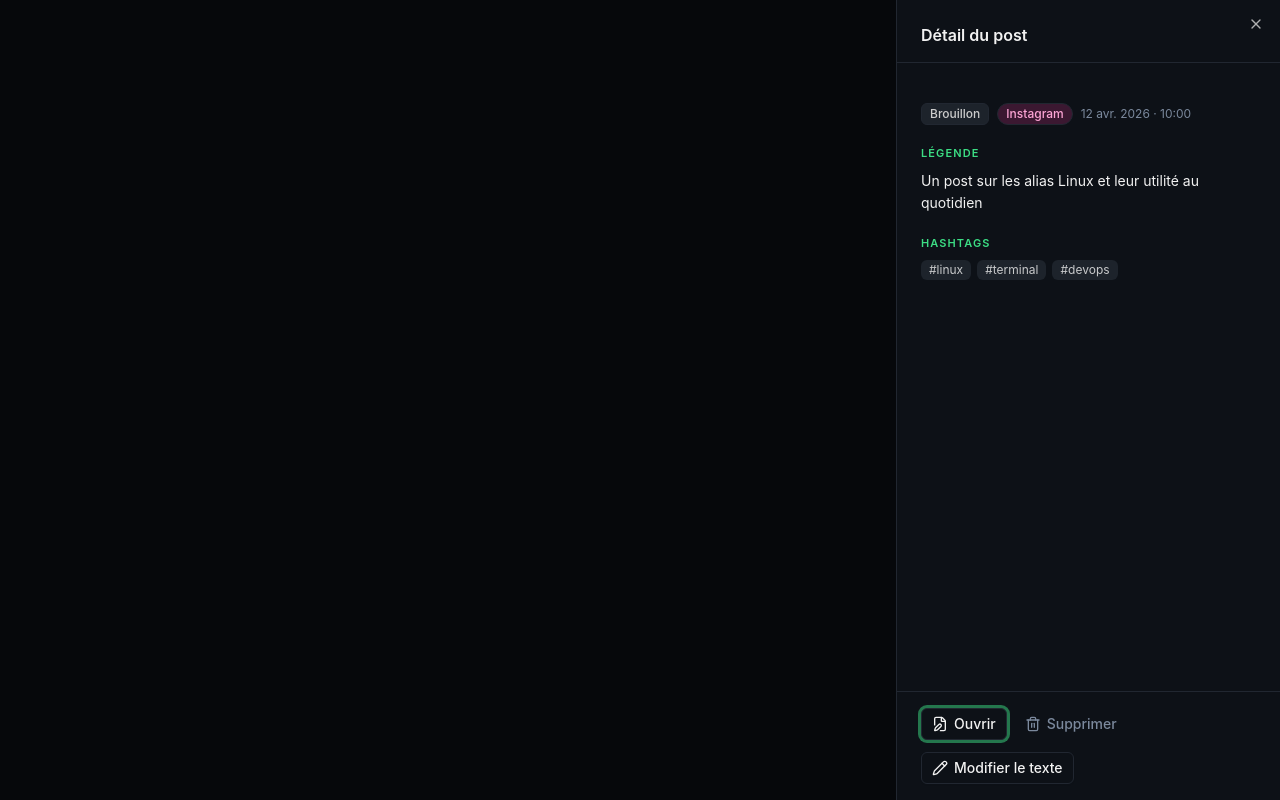
Test: PostDetailSheet — édition (brouillon) › Annuler en mode édition → revient au bouton 'Modifier le texte'
The width and height of the screenshot is (1280, 800).
Step 1. Click the button "Modifier le texte" → {"x": 997, "y": 768}, box [921, 752, 1074, 784]
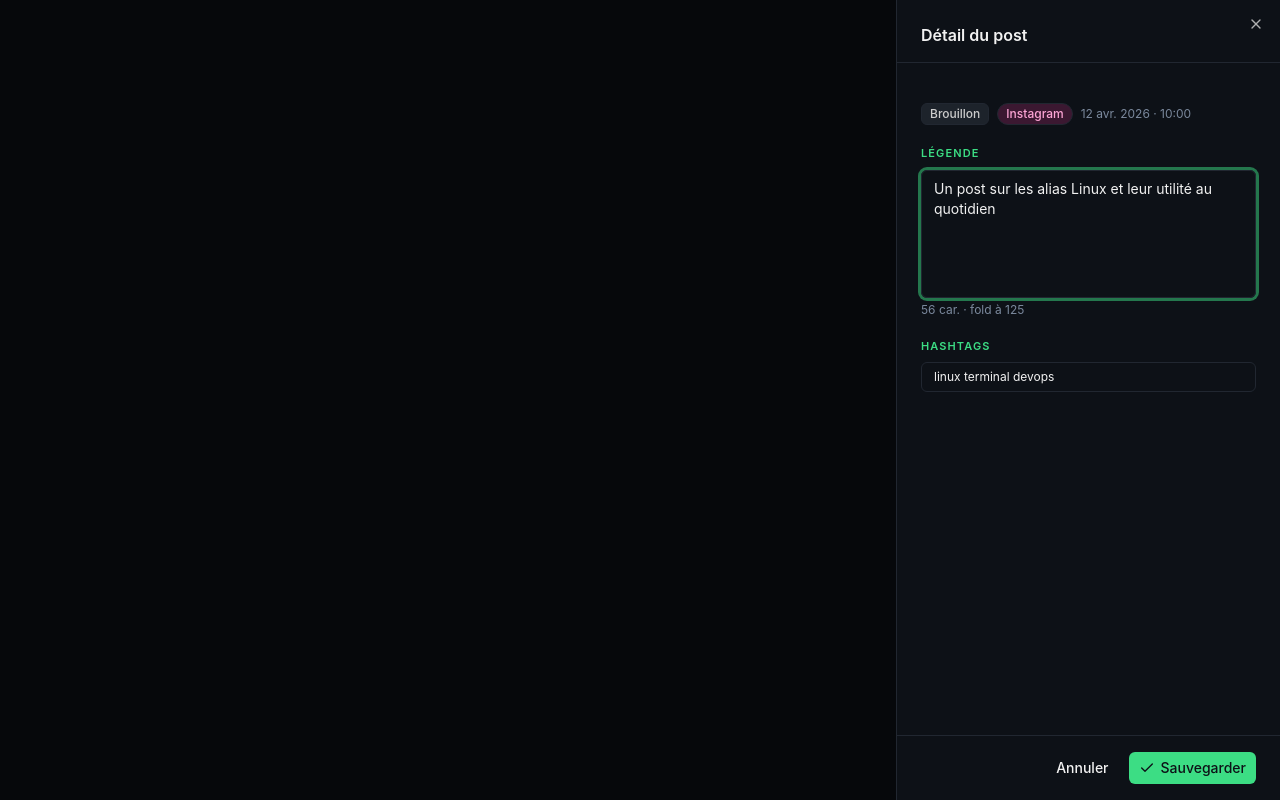
Expected: the button "Annuler" is shown
Step 2. Click the button "Annuler" → {"x": 1082, "y": 768}, box [1044, 752, 1121, 784]
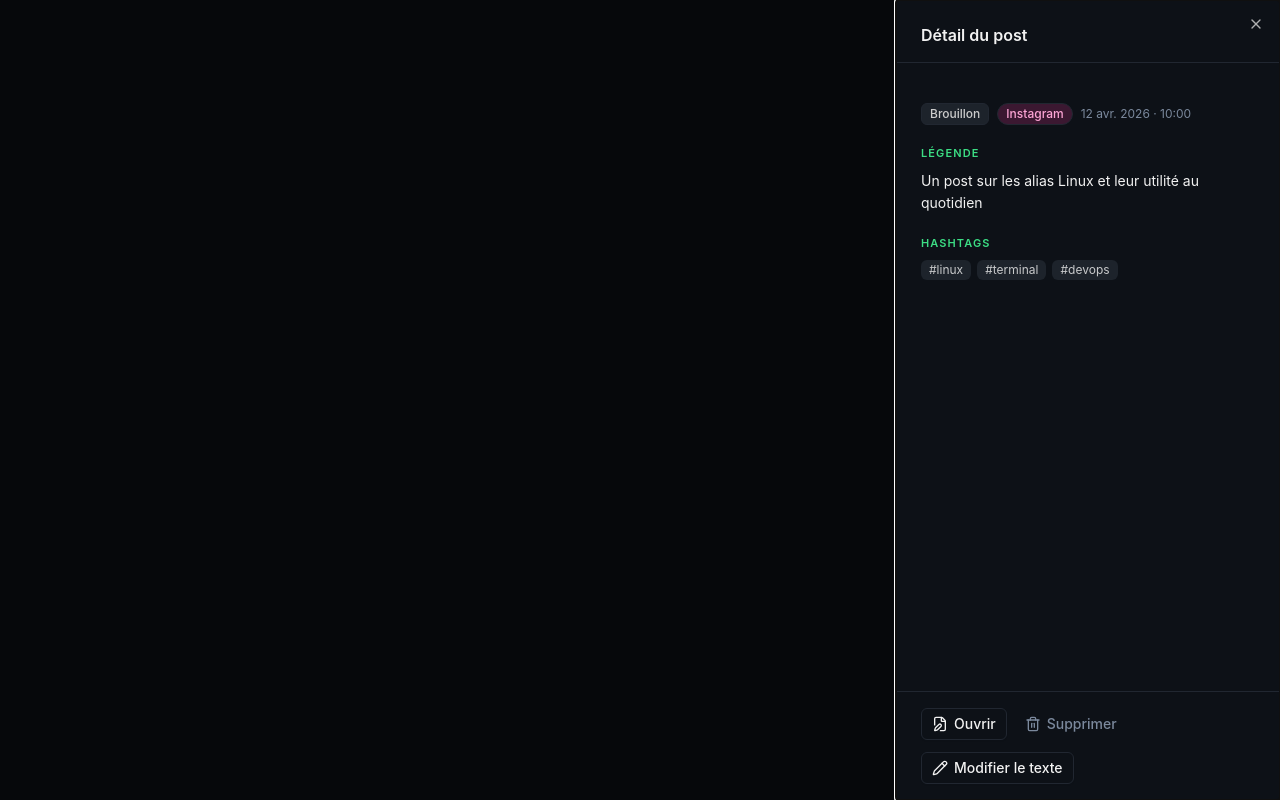
Expected: the button "Modifier le texte" is shown, [921, 752, 1074, 784]
